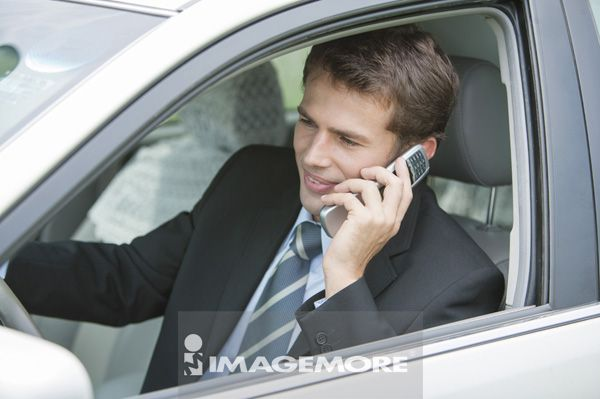talk: (290, 103, 432, 296)
